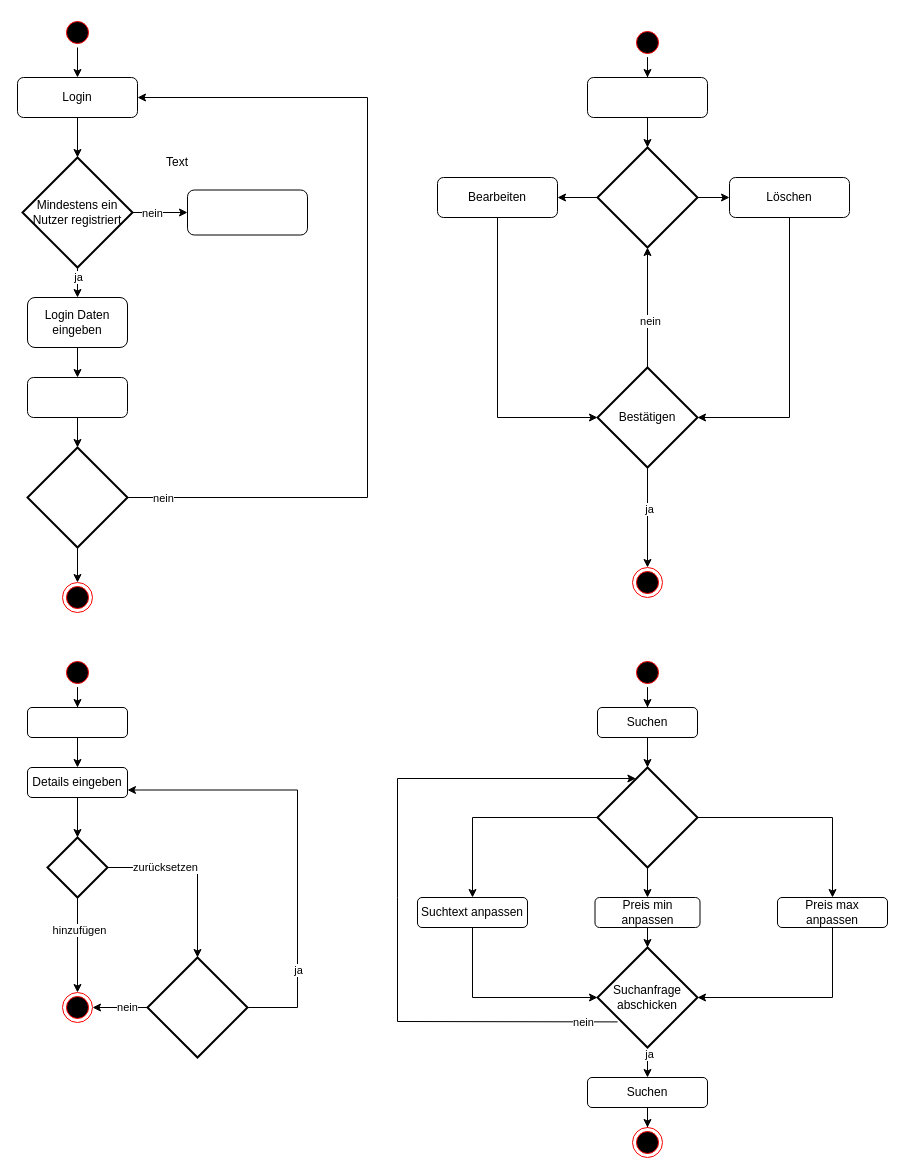
Some shapes in this 905 by 1175 pixel diagram are drawn without their labels. Here are the shapes that lost their labels. From the top down, the centre of each, then its label:
the point at 647,97: Kategorie
the point at 247,212: Registrieren
the point at 77,397: Login Button
the point at 77,497: Login-Daten valide
the point at 77,722: Produkt hinzufügen
the point at 197,1007: Eingabe fortsetzen
